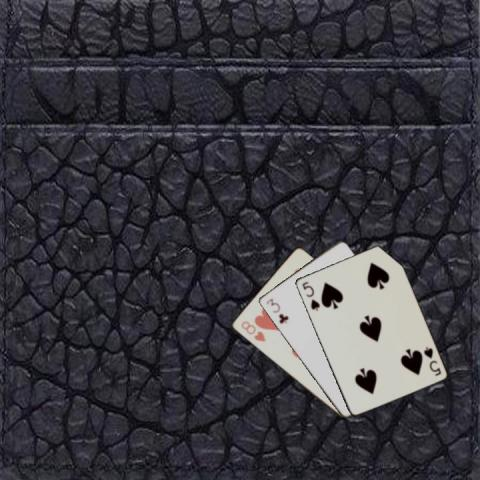3c: (263, 296, 290, 326)
5s: (298, 278, 320, 312), (421, 344, 442, 378)
8h: (238, 318, 267, 343)
